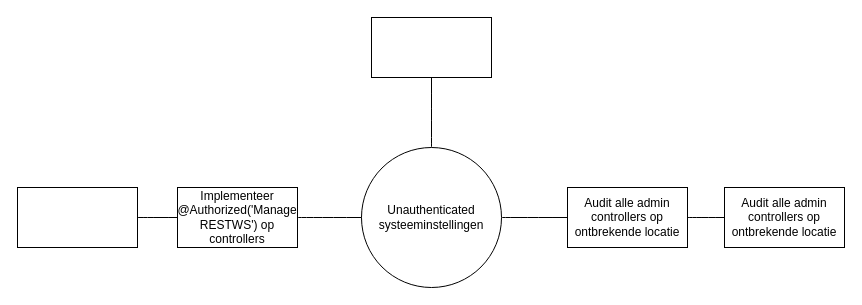
The diagram is 862 pixels wide and 305 high, and some of its shapes have lost their labels. The shapes that lost their labels are listed below. From the top down, each one's box as (x1, y1, x2, y2) in pixels, then its label:
(370, 16, 492, 78): Geen authenticatiecontrole
(16, 186, 138, 248): Ontbrekende @Authorized op nieuwe controllers
